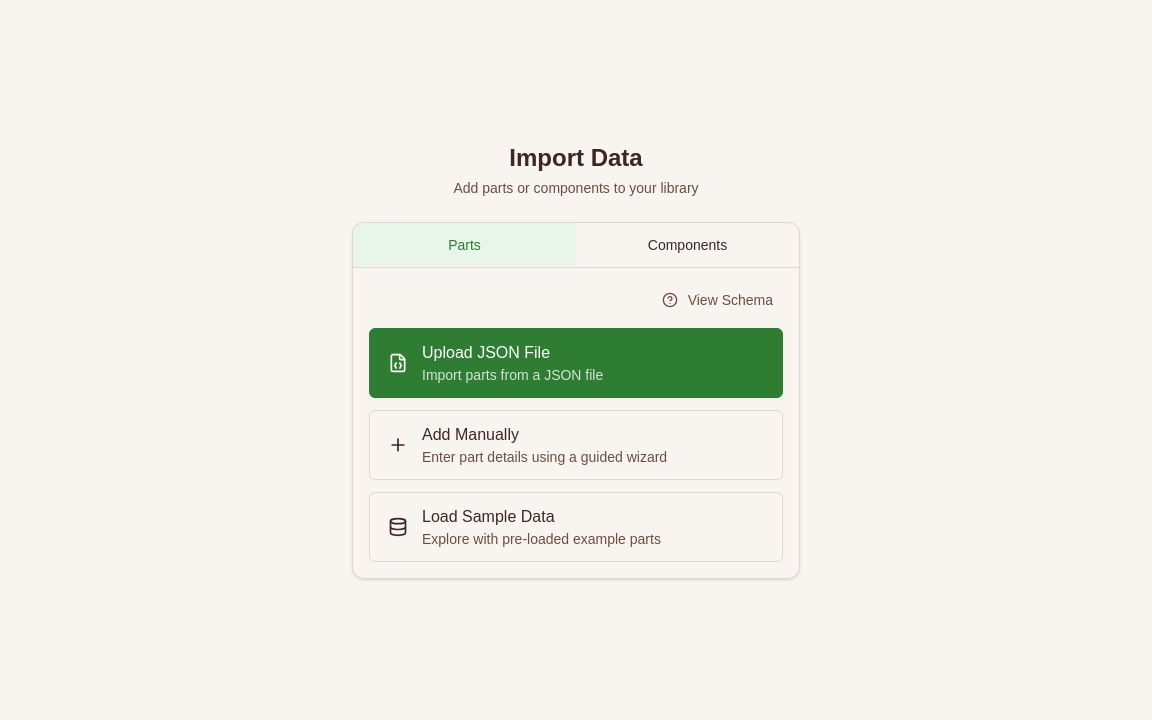
Data Import Screen (Story 2.2) › AC-2.2.3: Card Click Handlers › Upload JSON card opens Parts JSON upload modal (Parts)
Click the button "Upload JSON File".
click(486, 352)  # box x1=369 y1=328 x2=783 y2=398
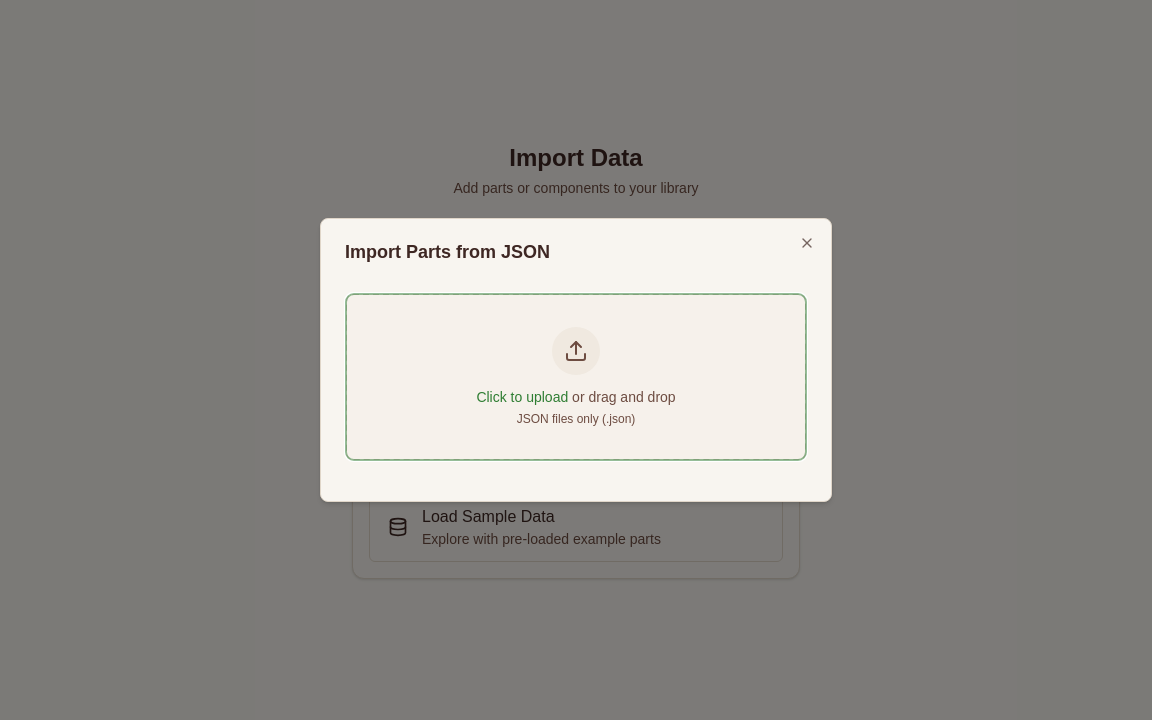
Expected: the dialog is shown, x1=320 y1=218 x2=832 y2=502
Expected: the heading "Import Parts from JSON" is shown, x1=345 y1=242 x2=550 y2=262
